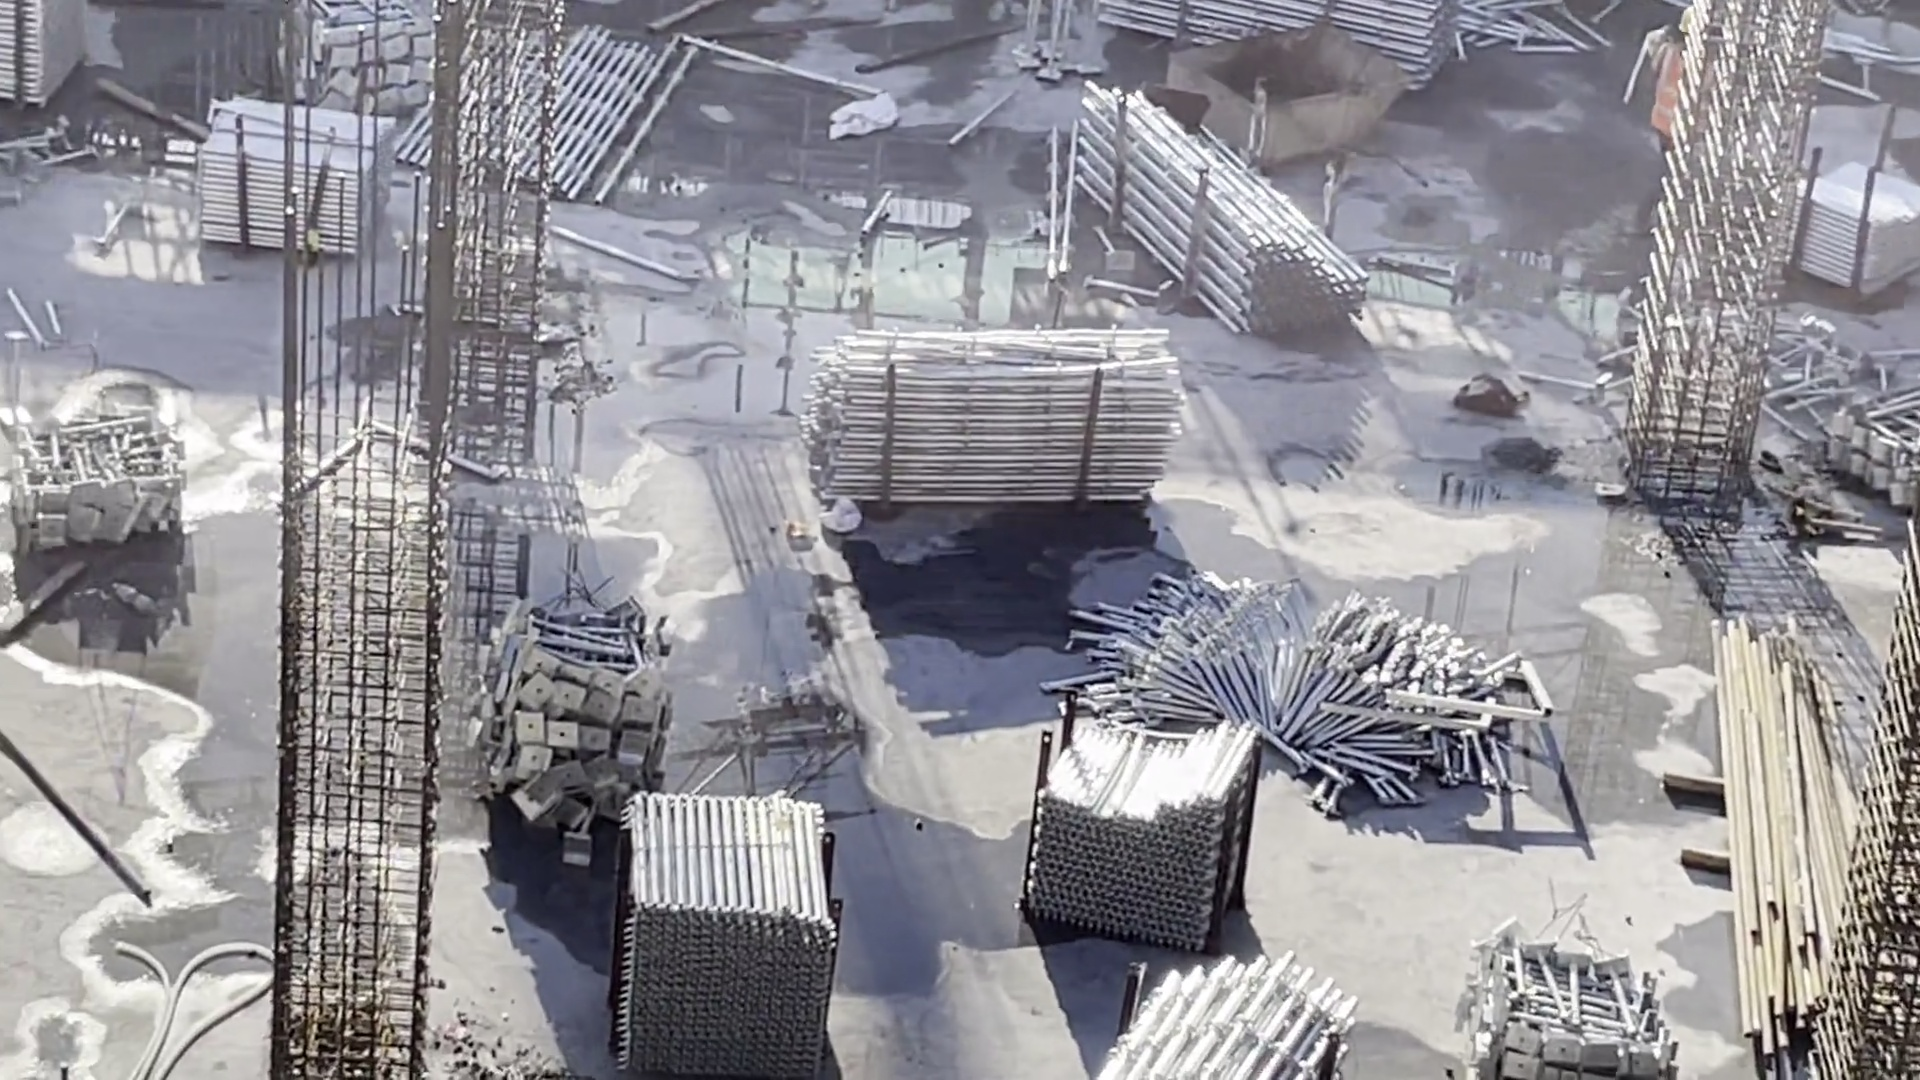helmet: (1666, 9, 1717, 41)
hopper: (1162, 23, 1410, 174)
person: (1633, 6, 1712, 243)
scaffold: (1097, 564, 1506, 805), (606, 784, 859, 1079), (802, 324, 1180, 517), (1080, 80, 1350, 331), (1044, 681, 1240, 917), (496, 588, 649, 841), (197, 95, 399, 254), (1458, 938, 1677, 1080), (16, 387, 196, 554), (1104, 960, 1355, 1080), (1185, 1, 1462, 104), (1773, 155, 1920, 300), (1806, 364, 1920, 499)
vest: (1647, 39, 1695, 145)
